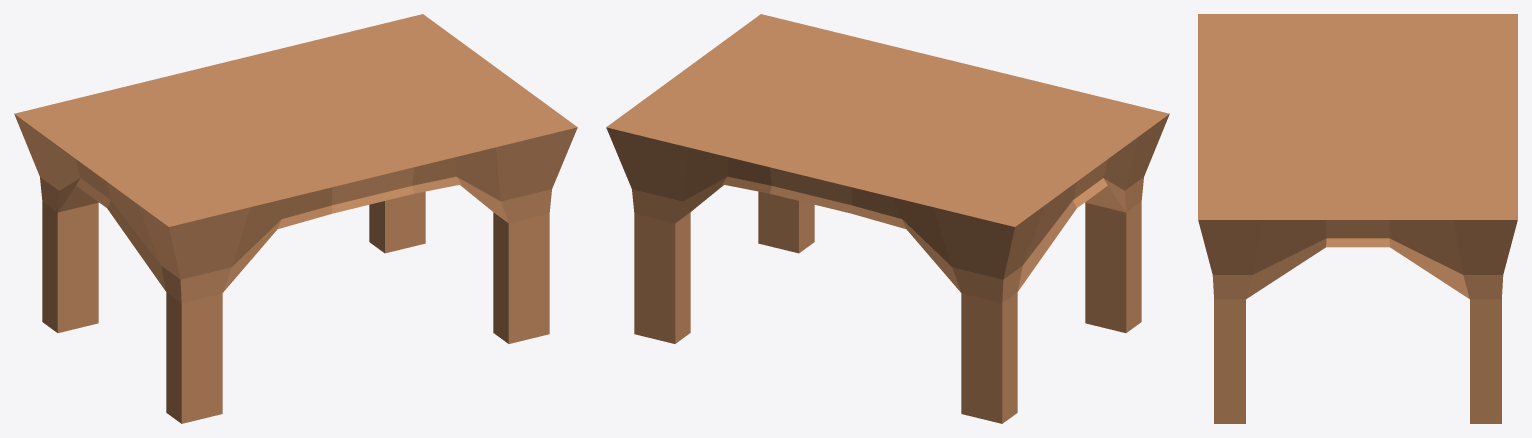
File: stol.fbx
3 renders of one model, left to right at view 1: azimuth 30°, elevation 25°; view 2: azimuth 150°, elevation 25°; view 3: azimuth 270°, elevation 25°, orthographic. The views are drawn at different scales.
Visible parts, largest first — view 1: Cube; view 2: Cube; view 3: Cube.
Part boxes in pixels (x1,y1,x2,y2): Cube: (14, 14, 577, 423); Cube: (606, 14, 1169, 423); Cube: (1198, 14, 1517, 423).
Bounding box in the file's own units: 757 × 367 × 496.
